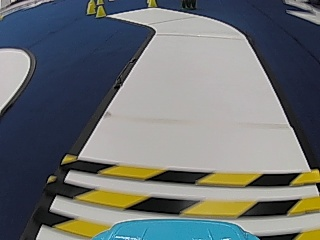bump: (79, 161, 299, 231)
